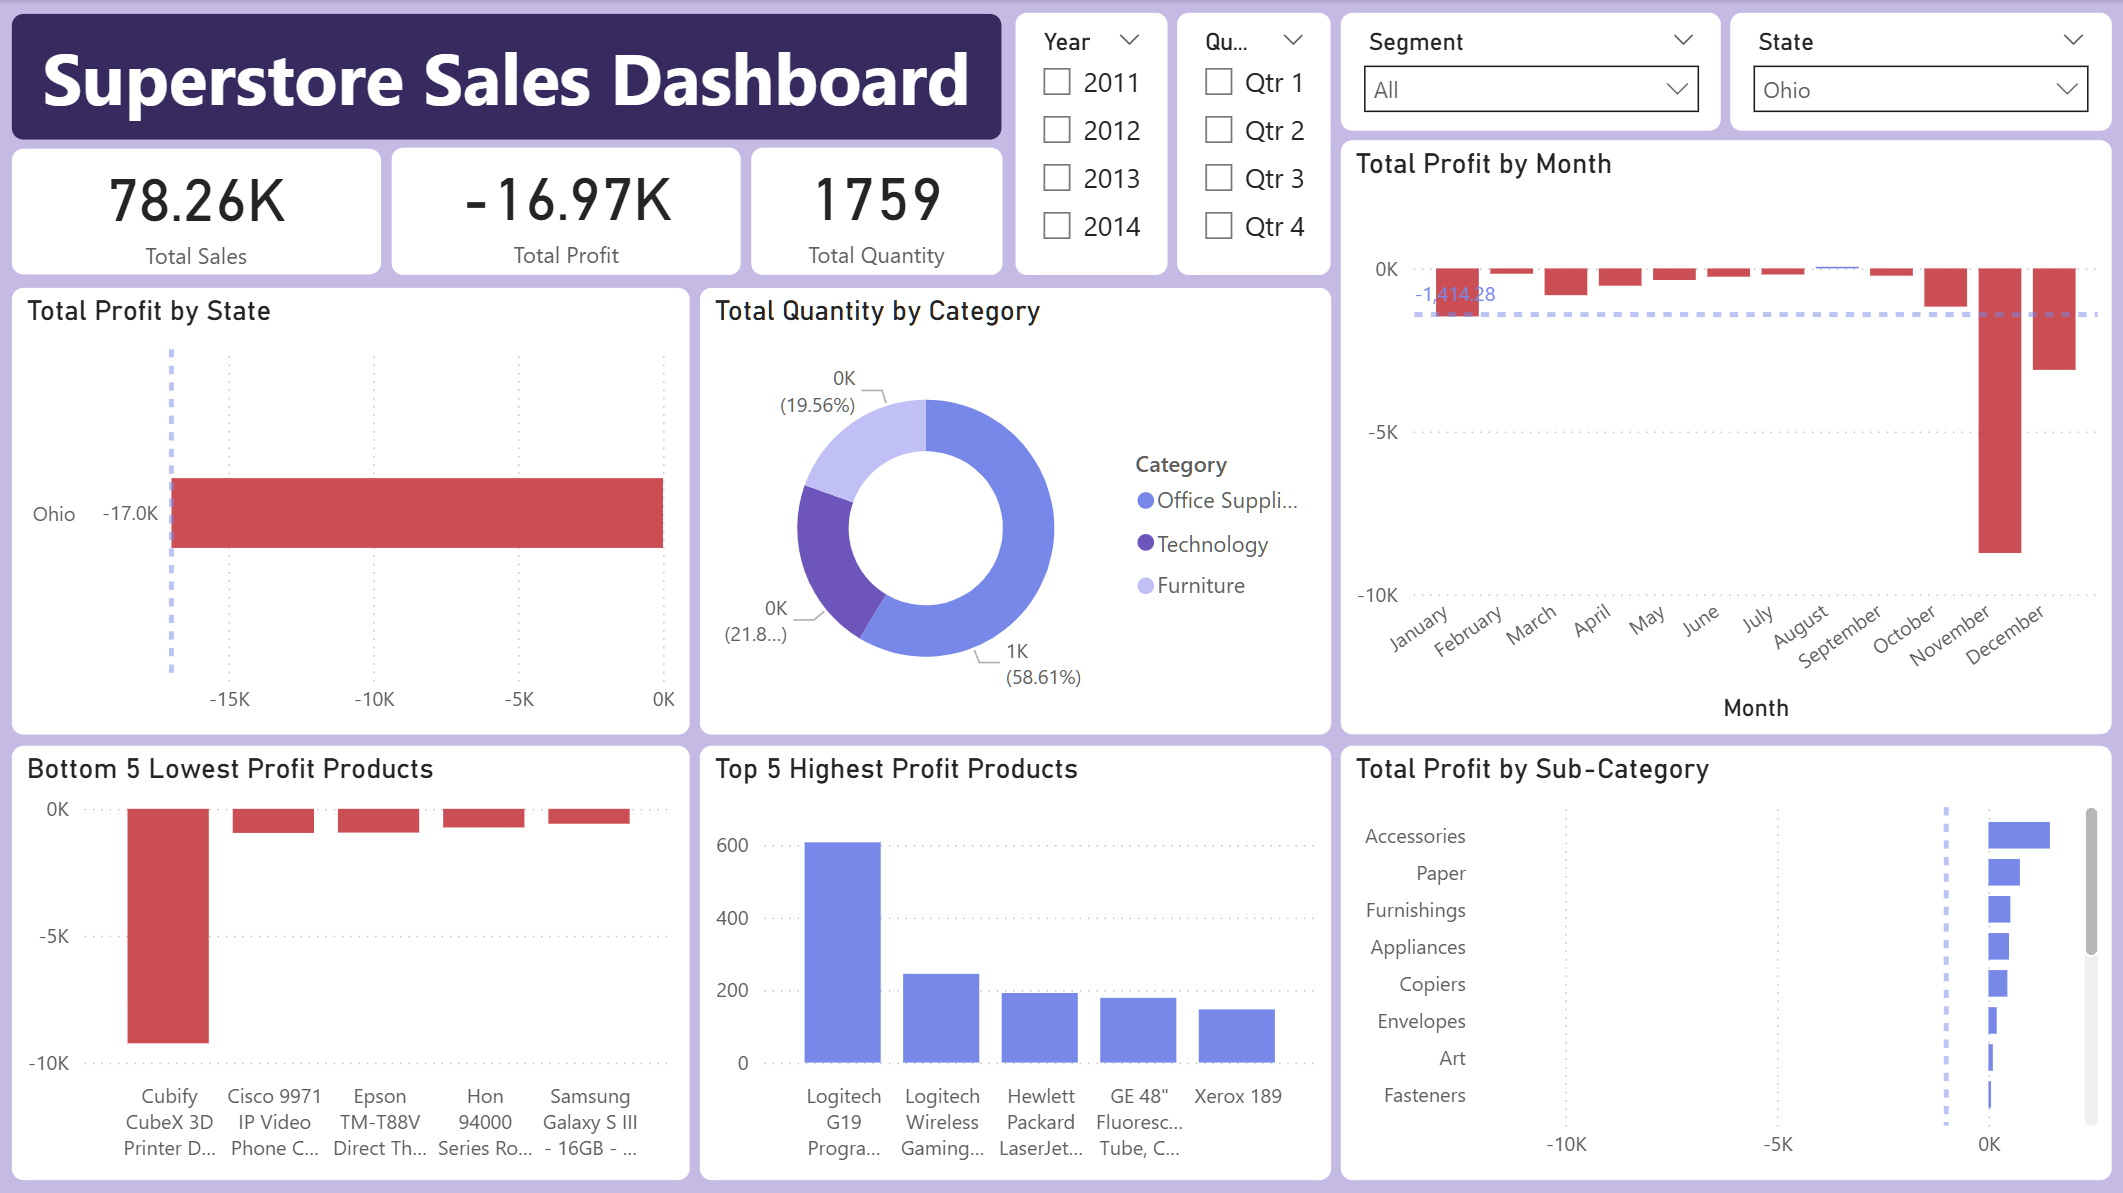

Layout of this report page (visuals, bound fields, positions):
{"tool":"powerbi","page":{"name":"Superstore Sales Dashboard","canvas":[1280,720],"ordinal":0},"visuals":[{"type":"card","fields":{"Values":["Sum(FactSales.Sales)"]},"box":[7.8,89.6,222.3,75.8],"z":0},{"type":"card","fields":{"Values":["Sum(FactSales.Profit)"]},"box":[236.7,88.9,210.5,76.5],"z":1000},{"type":"card","fields":{"Values":["Sum(FactSales.Quantity)"]},"box":[453.1,88.9,151,76.5],"z":2000},{"type":"slicer","fields":{"Values":["FactSales.Order Date.Variation.Date Hierarchy.Year"]},"box":[612.6,7.8,91.5,157.6],"z":3000},{"type":"slicer","fields":{"Values":["FactSales.Order Date.Variation.Date Hierarchy.Quarter"]},"box":[710,7.8,92.8,157.6],"z":4000},{"type":"clusteredBarChart","title":"Total Profit by State","fields":{"Y":["Sum(FactSales.Profit)"],"Category":["DimLocation.State"]},"box":[7.8,173.3,408,269.4],"z":5000},{"type":"donutChart","title":"Total Quantity by Category","fields":{"Y":["Sum(FactSales.Quantity)"],"Category":["DimProduct.Category"]},"box":[422.4,173.3,380.5,269.4],"z":6000},{"type":"clusteredColumnChart","title":"Total Profit by Month","fields":{"Category":["FactSales.Order Date.Variation.Date Hierarchy.Month"],"Y":["Sum(FactSales.Profit)"]},"box":[808.1,84.3,464.9,358.3],"z":7000},{"type":"slicer","fields":{"Values":["FactSales.Segment"]},"box":[808.1,7.8,229.4,70.6],"z":8000},{"type":"textbox","box":[7.8,8.5,596.3,75.8],"z":9000},{"type":"clusteredBarChart","title":"Total Profit by Sub-Category","fields":{"Y":["Sum(FactSales.Profit)"],"Category":["DimProduct.Sub-Category"]},"box":[808.1,449.2,464.9,261.5],"z":10000},{"type":"slicer","fields":{"Values":["DimLocation.State"]},"box":[1043.3,7.8,229.7,70.6],"z":11000},{"type":"clusteredColumnChart","title":"Top 5 Highest Profit Products","fields":{"Y":["Sum(FactSales.Profit)"],"Category":["DimProduct.Product Name"]},"box":[422.4,449.2,380.5,261.5],"z":12000},{"type":"clusteredColumnChart","title":"Bottom 5 Lowest Profit Products","fields":{"Y":["Sum(FactSales.Profit)"],"Category":["DimProduct.Product Name"]},"box":[7.8,449.2,408,261.5],"z":13000}]}

Visuals, with their boxes in screenshot pixels (x1, y1, x2, y2), scaled from the page's 1280x720 canvas onto the 2123x1193 screenshot:
card - Sum(FactSales.Sales): 13,148,382,274
card - Sum(FactSales.Profit): 393,147,742,274
card - Sum(FactSales.Quantity): 752,147,1002,274
slicer - FactSales.Order Date.Variation.Date Hierarchy.Year: 1016,13,1168,274
slicer - FactSales.Order Date.Variation.Date Hierarchy.Quarter: 1178,13,1332,274
"Total Profit by State" clusteredBarChart: 13,287,690,734
"Total Quantity by Category" donutChart: 701,287,1332,734
"Total Profit by Month" clusteredColumnChart: 1340,140,2111,733
slicer - FactSales.Segment: 1340,13,1721,130
textbox: 13,14,1002,140
"Total Profit by Sub-Category" clusteredBarChart: 1340,744,2111,1178
slicer - DimLocation.State: 1730,13,2111,130
"Top 5 Highest Profit Products" clusteredColumnChart: 701,744,1332,1178
"Bottom 5 Lowest Profit Products" clusteredColumnChart: 13,744,690,1178
